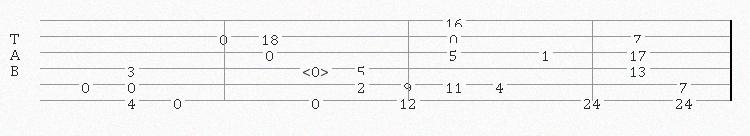0: (81, 77, 94, 91), (127, 77, 140, 91), (173, 93, 186, 107), (219, 29, 232, 43), (265, 45, 278, 59), (311, 93, 324, 107), (449, 29, 462, 43)
1: (541, 45, 554, 59)
11: (445, 77, 467, 91)
12: (399, 93, 421, 107)
13: (629, 61, 651, 75)
16: (445, 13, 467, 27)
17: (629, 45, 651, 59)
18: (261, 29, 283, 43)
2: (357, 77, 370, 91)
24: (583, 93, 605, 107), (675, 93, 697, 107)
3: (127, 61, 140, 75)
4: (127, 93, 140, 107), (495, 77, 508, 91)
5: (357, 61, 370, 76), (449, 45, 462, 60)
7: (633, 29, 646, 43), (679, 77, 692, 91)
9: (403, 77, 416, 91)
harmonic: (302, 61, 333, 75)
